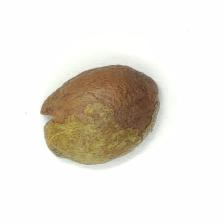NG: (40, 101, 163, 166)
